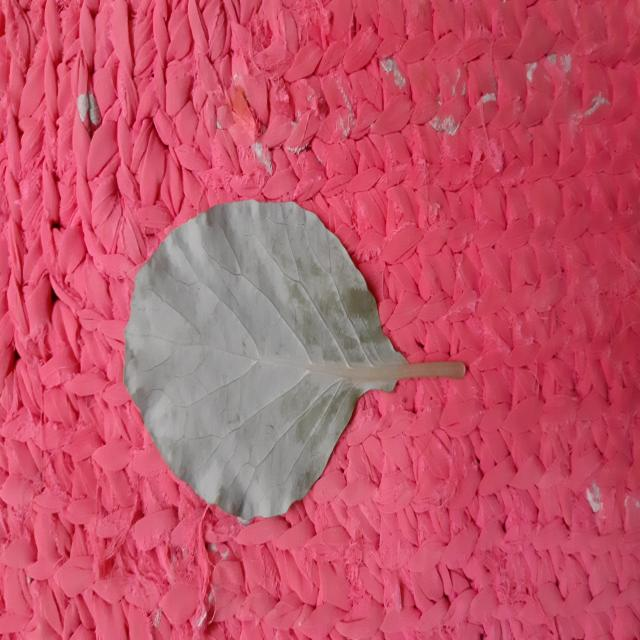Kohlrabi: (124, 200, 465, 522)
